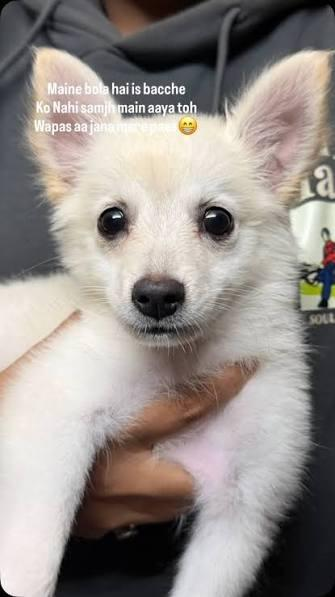puppy-dog: (0, 43, 335, 597)
